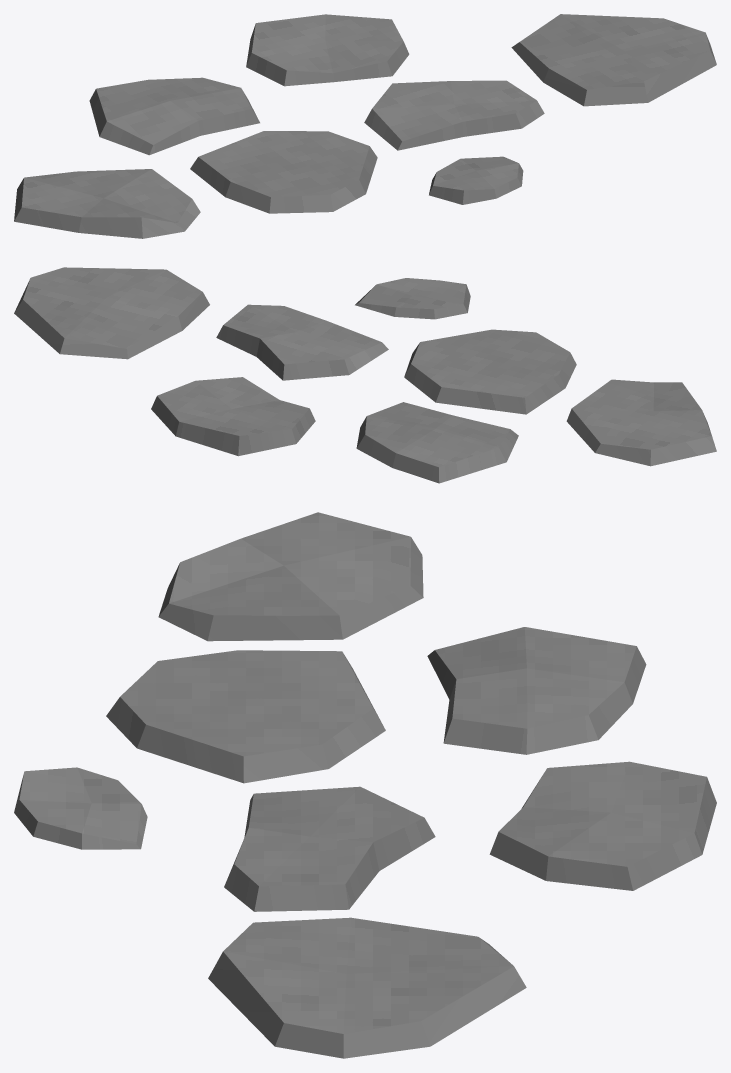
File: RockSlab2.fbx
The picture shows the model from 3 angles, top to bottom: view 1: azimuth 30°, elevation 25°; view 2: azimuth 150°, elevation 25°; view 3: azimuth 270°, elevation 25°; orthographic projection. The views are drawn at different scales.
Visible parts, largest first — view 1: rock_slab2; view 2: rock_slab2; view 3: rock_slab2.
Boxes of the visible parts, x1,y1,x2,y2 form: rock_slab2: (14,14,716,238); rock_slab2: (14,267,716,483); rock_slab2: (14,512,716,1058).
Bounding box in the file's own units: 2.68 × 0.0652 × 1.5.
